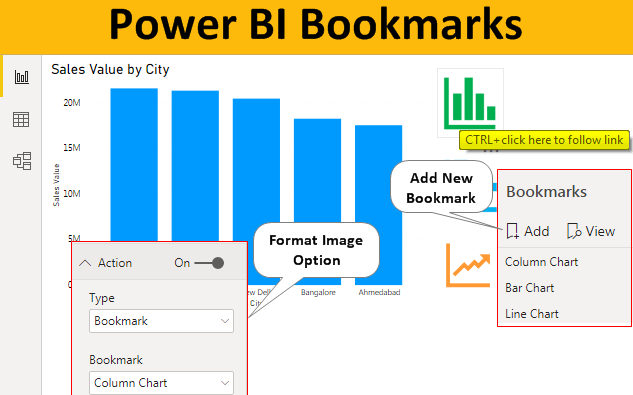

Layout of this report page (visuals, bound fields, positions):
{"tool":"powerbi","page":{"name":"Page 1","canvas":[1280,720],"ordinal":0},"visuals":[{"type":"columnChart","fields":{"Category":["Table.Name"],"Y":["Sum(Table.Data)"]},"box":[287.9,122.6,633.2,441.6],"z":0}]}

Visuals, with their boxes on the page's 1280x720 design canvas (x1, y1, x2, y2). These are canvas units, not pixel positions in the 633x395 screenshot, which may show the page scaled, cropped or inside an application window:
columnChart - Table.Name x Sum(Table.Data): 288:123:921:564
